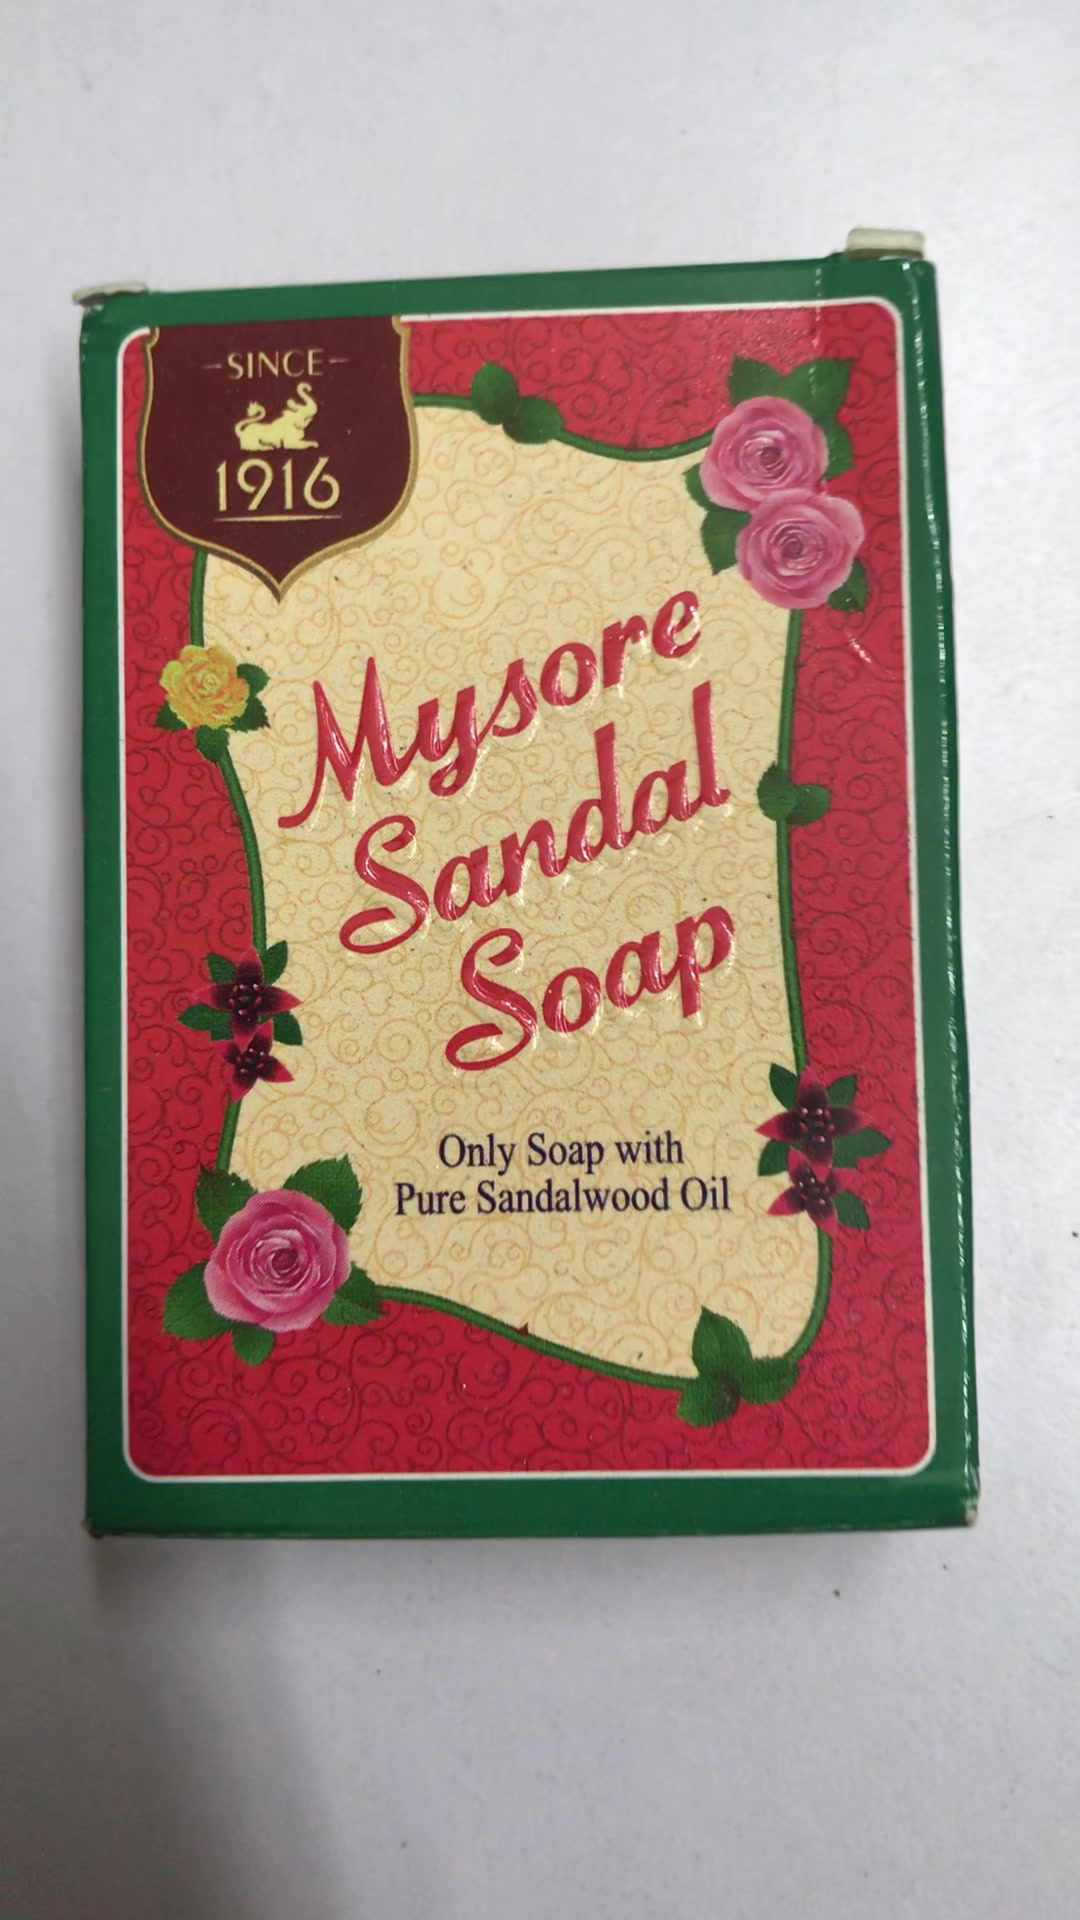mysore sandal soap: (86, 256, 984, 1544)
